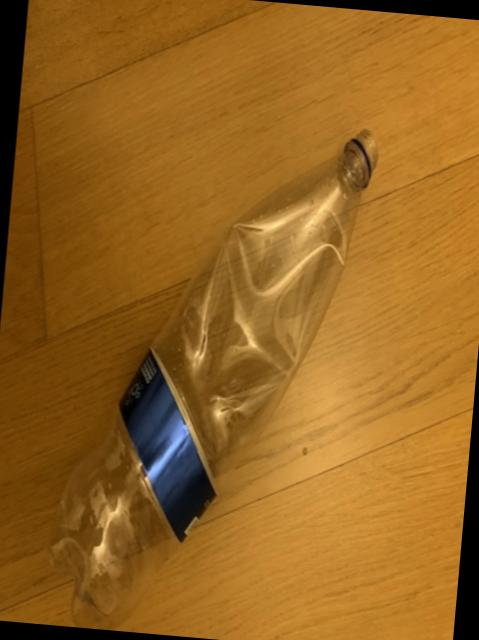plastic: (48, 133, 374, 630)
